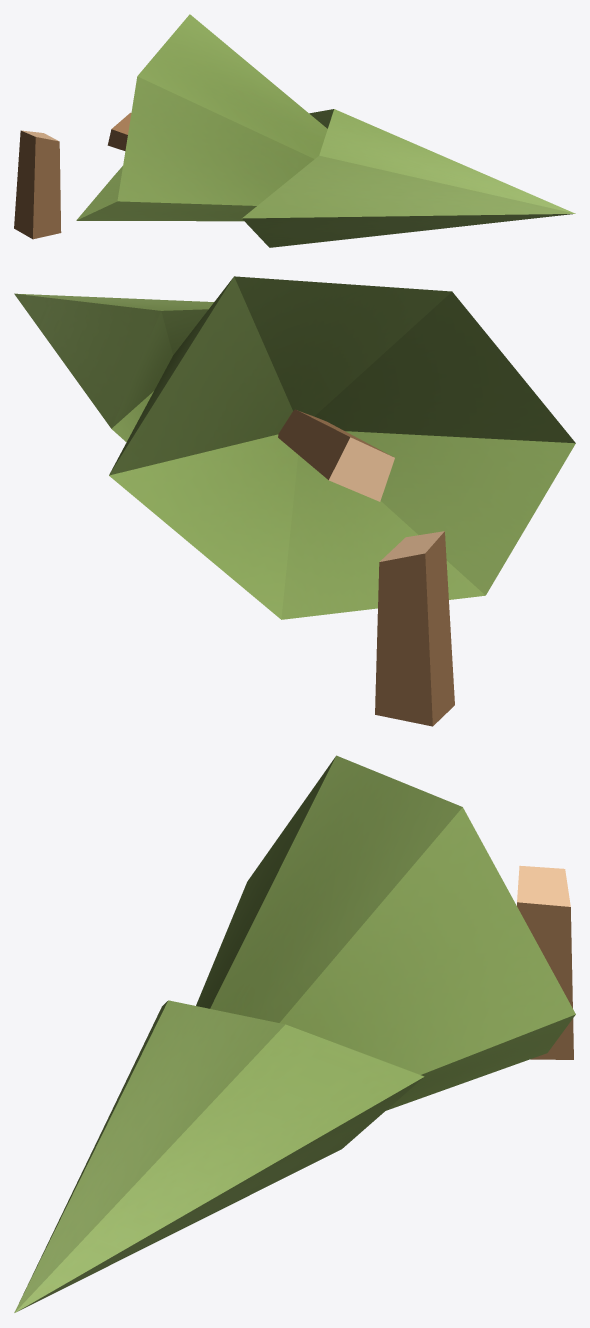
File: Pine_Tree_crk_s_03_LOD.fbx
3 renders of one model, top to bottom at view 1: azimuth 30°, elevation 25°; view 2: azimuth 150°, elevation 25°; view 3: azimuth 270°, elevation 25°, orthographic. The views are drawn at different scales.
Parts seen in each view (by area): view 1: Pine_Tree_crk_s_03_LOD0; view 2: Pine_Tree_crk_s_03_LOD0; view 3: Pine_Tree_crk_s_03_LOD0.
Boxes of the visible parts, x1,y1,x2,y2 form: Pine_Tree_crk_s_03_LOD0: [14, 14, 575, 247]; Pine_Tree_crk_s_03_LOD0: [14, 276, 575, 726]; Pine_Tree_crk_s_03_LOD0: [14, 755, 575, 1312].
Size of what is drawn, in the model's own units: 124 by 59.67 by 87.13.
